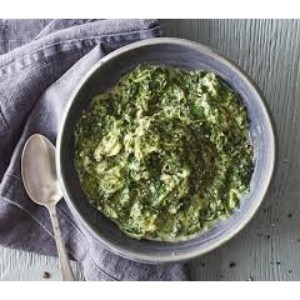spinach_brain food: (81, 77, 240, 240)
